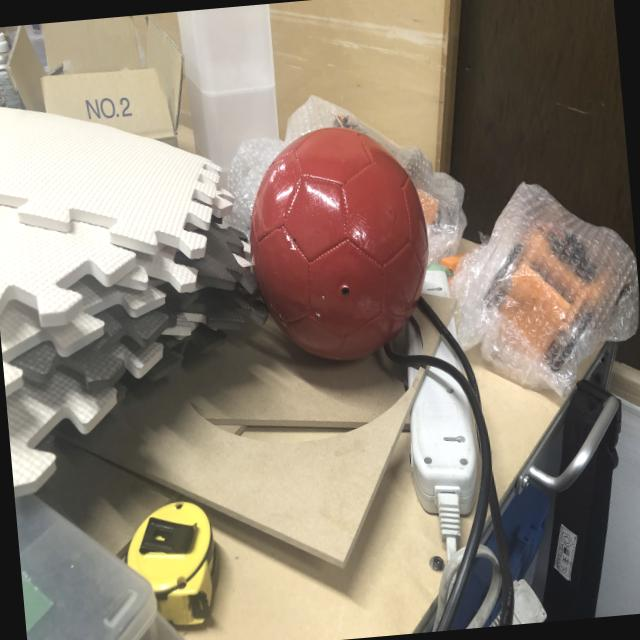red_ball: (242, 121, 438, 371)
